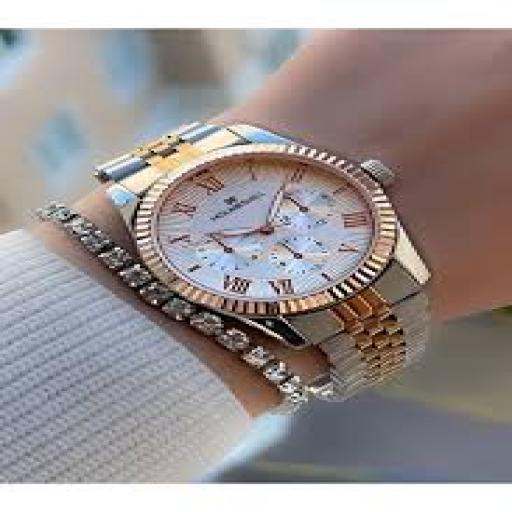KolSaati: (82, 114, 468, 400)
